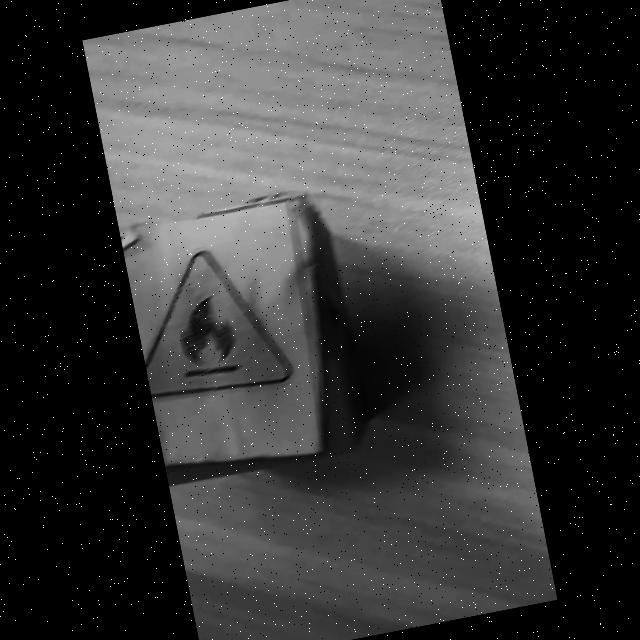Fire: (145, 250, 293, 398)
